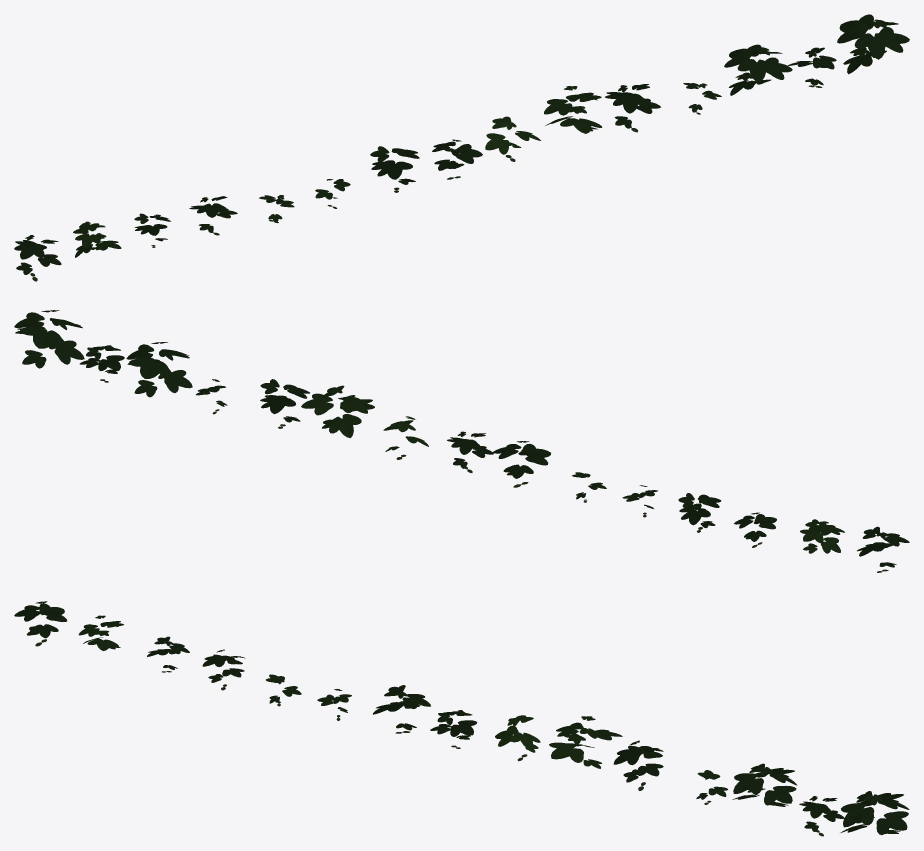
The model's file is ROW_22_SEG1_foliage.dae.
3 renders of one model, top to bottom at view 1: azimuth 30°, elevation 25°; view 2: azimuth 150°, elevation 25°; view 3: azimuth 330°, elevation 25°, orthographic.
Parts seen in each view (by area): view 1: ROW_22_SEG1_foliage; view 2: ROW_22_SEG1_foliage; view 3: ROW_22_SEG1_foliage.
Boxes of the visible parts, x1,y1,x2,y2 form: ROW_22_SEG1_foliage: (14,14,909,281); ROW_22_SEG1_foliage: (14,310,909,572); ROW_22_SEG1_foliage: (14,601,909,836).
Bounding box in the file's own units: 4.54 × 0.3679 × 0.2792.
